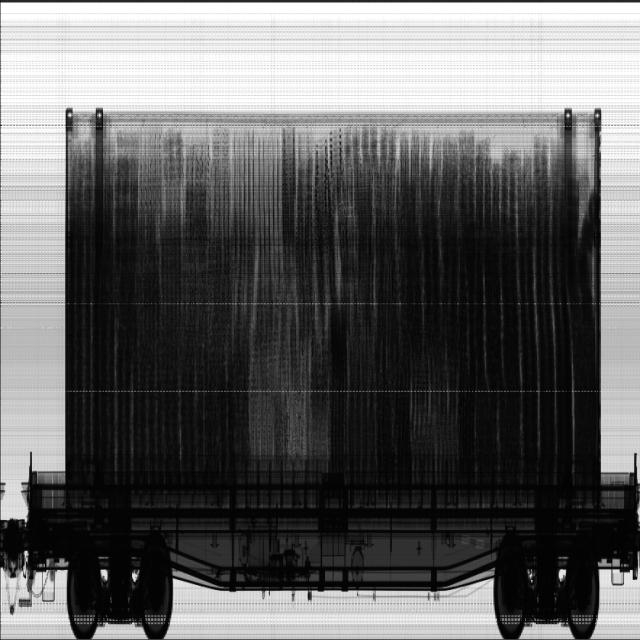shoes: (135, 134, 283, 284)
